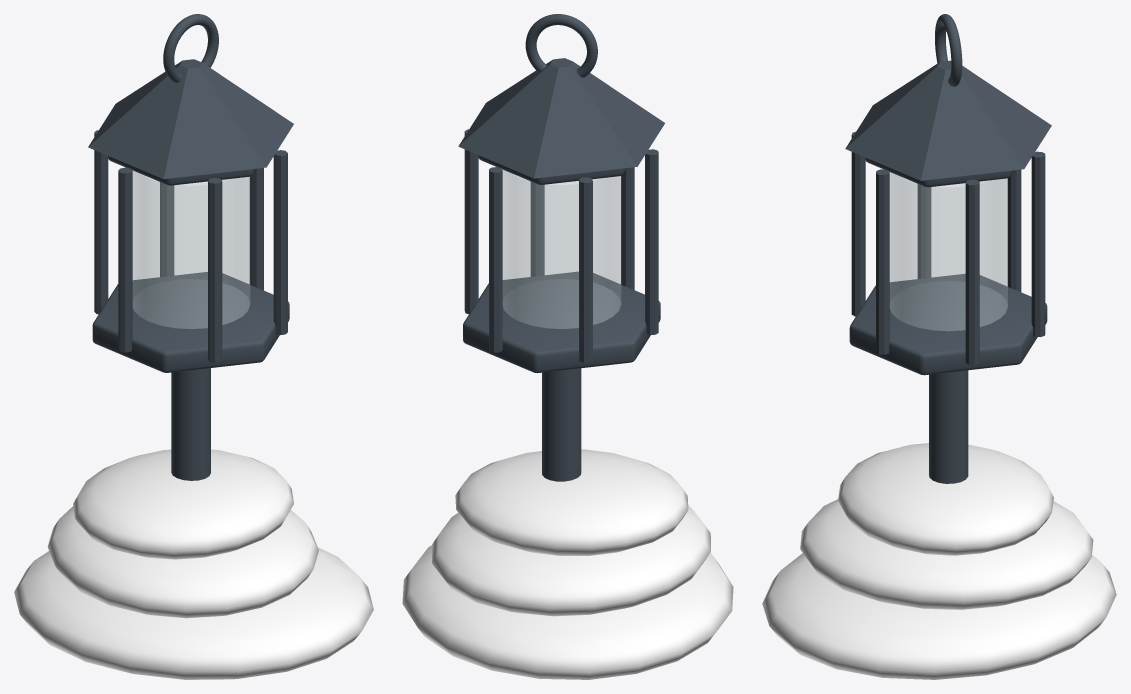
File: beacon-dormant.glb
3 views of the same model, side by side, from view 1: azimuth 30°, elevation 25°; view 2: azimuth 150°, elevation 25°; view 3: azimuth 270°, elevation 25° (orthographic).
Parts seen in each view (by area): view 1: titan.beacon.stone.0, titan.beacon.stone.2, titan.beacon.stone.1, titan.beacon.roof, titan.beacon.flame-glass, titan.beacon.cage-base, titan.beacon.pole, titan.beacon.bar.4, titan.beacon.bar.3, titan.beacon.bar.5, titan.beacon.bar.2, titan.beacon.bar.0 (+3 smaller); view 2: titan.beacon.stone.0, titan.beacon.stone.2, titan.beacon.stone.1, titan.beacon.roof, titan.beacon.flame-glass, titan.beacon.cage-base, titan.beacon.pole, titan.beacon.bar.1, titan.beacon.bar.2, titan.beacon.bar.3, titan.beacon.bar.0, titan.beacon.handle (+3 smaller); view 3: titan.beacon.stone.0, titan.beacon.stone.1, titan.beacon.stone.2, titan.beacon.roof, titan.beacon.flame-glass, titan.beacon.cage-base, titan.beacon.pole, titan.beacon.bar.0, titan.beacon.bar.1, titan.beacon.bar.5, titan.beacon.bar.4, titan.beacon.bar.2 (+3 smaller).
Boxes of the visible parts, x1,y1,x2,y2 form: titan.beacon.stone.0: (14, 547, 373, 679); titan.beacon.stone.2: (73, 449, 293, 559); titan.beacon.stone.1: (47, 506, 318, 618); titan.beacon.roof: (88, 59, 293, 179); titan.beacon.flame-glass: (133, 171, 249, 328); titan.beacon.cage-base: (92, 272, 289, 372); titan.beacon.pole: (171, 368, 210, 480); titan.beacon.bar.4: (208, 178, 222, 362); titan.beacon.bar.3: (118, 167, 132, 352); titan.beacon.bar.5: (273, 150, 287, 334); titan.beacon.bar.2: (94, 130, 108, 314); titan.beacon.bar.0: (249, 168, 263, 290); titan.beacon.stone.0: (402, 545, 733, 679); titan.beacon.stone.2: (455, 449, 688, 555); titan.beacon.stone.1: (432, 506, 710, 616); titan.beacon.roof: (458, 58, 664, 178); titan.beacon.flame-glass: (503, 170, 620, 328); titan.beacon.cage-base: (463, 271, 660, 373); titan.beacon.pole: (542, 368, 581, 481); titan.beacon.bar.1: (489, 167, 502, 352); titan.beacon.bar.2: (579, 177, 592, 362); titan.beacon.bar.3: (645, 149, 658, 334); titan.beacon.bar.0: (464, 129, 478, 314); titan.beacon.handle: (525, 14, 597, 77); titan.beacon.stone.0: (762, 553, 1116, 679); titan.beacon.stone.1: (800, 499, 1093, 609); titan.beacon.stone.2: (838, 443, 1053, 555); titan.beacon.roof: (845, 60, 1051, 180); titan.beacon.flame-glass: (890, 172, 1007, 330); titan.beacon.cage-base: (849, 274, 1047, 375); titan.beacon.pole: (929, 370, 968, 483); titan.beacon.bar.0: (965, 179, 979, 364); titan.beacon.bar.1: (1031, 151, 1045, 336); titan.beacon.bar.5: (876, 169, 889, 354); titan.beacon.bar.4: (851, 131, 865, 316); titan.beacon.bar.2: (1007, 169, 1021, 291).
Size of the model in its own units: 0.8695 by 1.73 by 0.8943.
